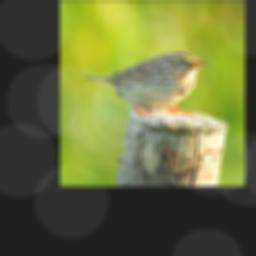Sparrow: (79, 51, 210, 117)
